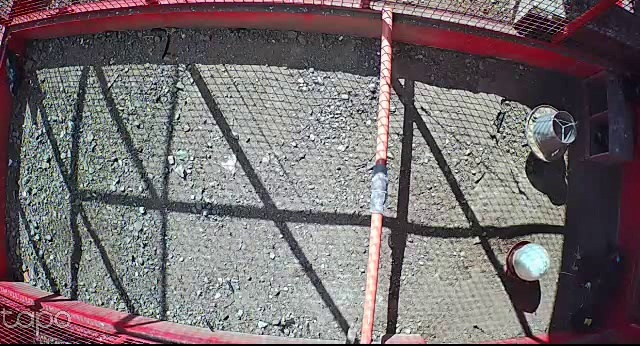Chicken: (4, 43, 34, 97)
Drinker: (504, 240, 552, 281)
Feeder: (526, 103, 578, 161)
Saddle_Color_Yellow: (583, 318, 593, 325)
